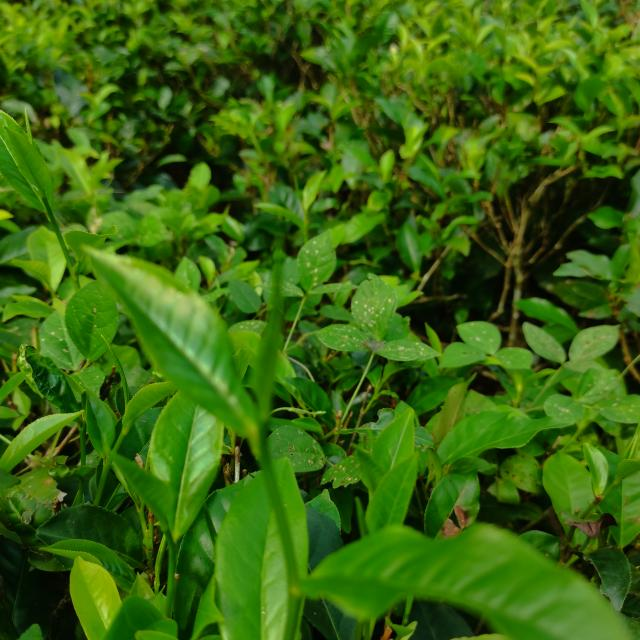unopened_leaf: (246, 248, 302, 427), (98, 327, 133, 408), (349, 489, 378, 543), (290, 167, 314, 232), (20, 103, 38, 150)
